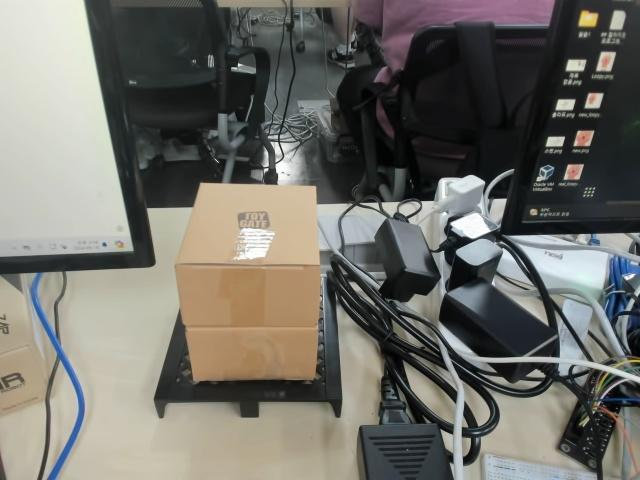box: (155, 182, 345, 421)
